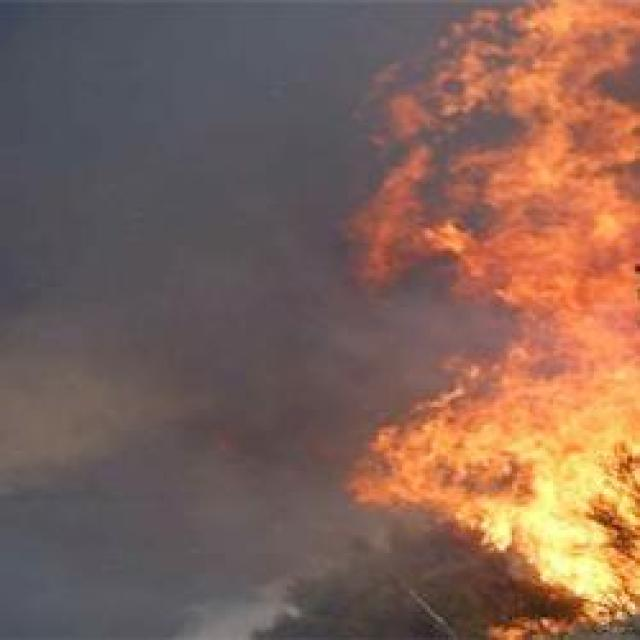Fire: (353, 0, 640, 640)
Smoke: (0, 0, 640, 640)
